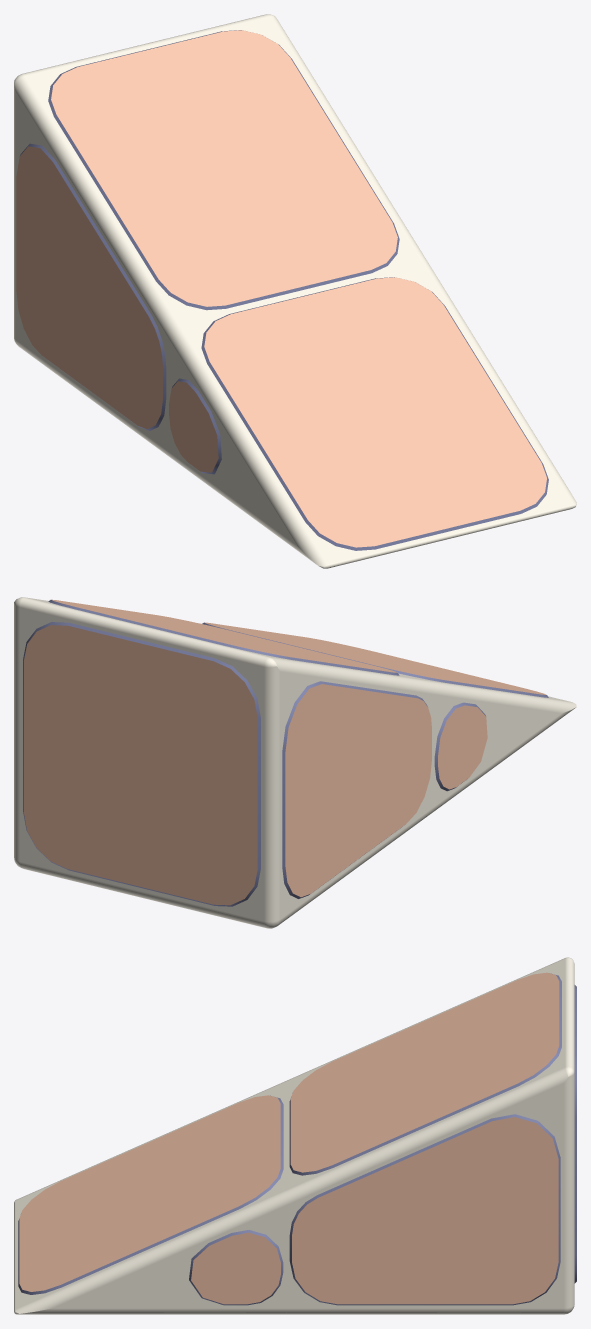
The model's file is R4B_LongWedge.fbx.
3 renders of one model, top to bottom at view 1: azimuth 30°, elevation 25°; view 2: azimuth 150°, elevation 25°; view 3: azimuth 270°, elevation 25°, orthographic. The views are drawn at different scales.
Visible parts, largest first — view 1: R4B_LongWedge; view 2: R4B_LongWedge; view 3: R4B_LongWedge.
Boxes of the visible parts, x1=… form: R4B_LongWedge: x1=14, y1=14, x2=576, y2=568; R4B_LongWedge: x1=14, y1=597, x2=576, y2=928; R4B_LongWedge: x1=14, y1=957, x2=576, y2=1314.
Size of the model in its own units: 0.52 by 0.5061 by 1.04.
